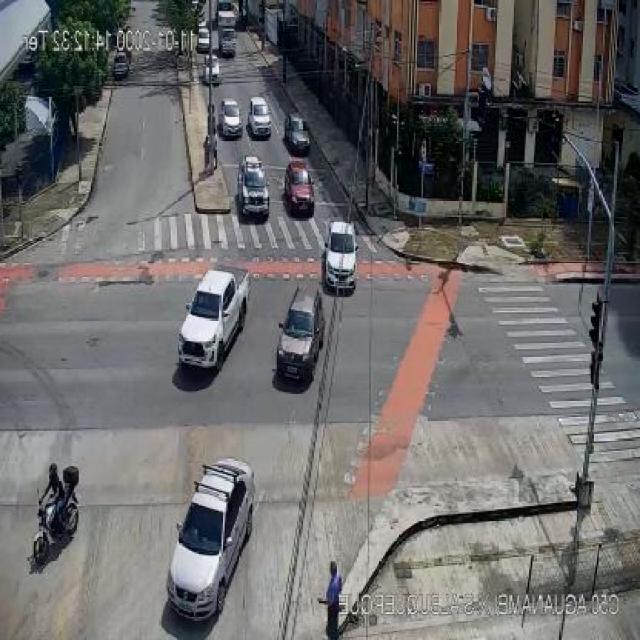Car: (160, 454, 258, 616), (173, 262, 257, 374), (267, 285, 330, 399), (322, 208, 362, 296), (286, 162, 323, 220), (284, 106, 314, 159), (246, 85, 273, 137), (216, 95, 242, 145), (200, 55, 224, 93), (190, 15, 210, 59)
Cycle: (20, 446, 100, 570)
Truck: (237, 153, 274, 222), (215, 6, 242, 61)
